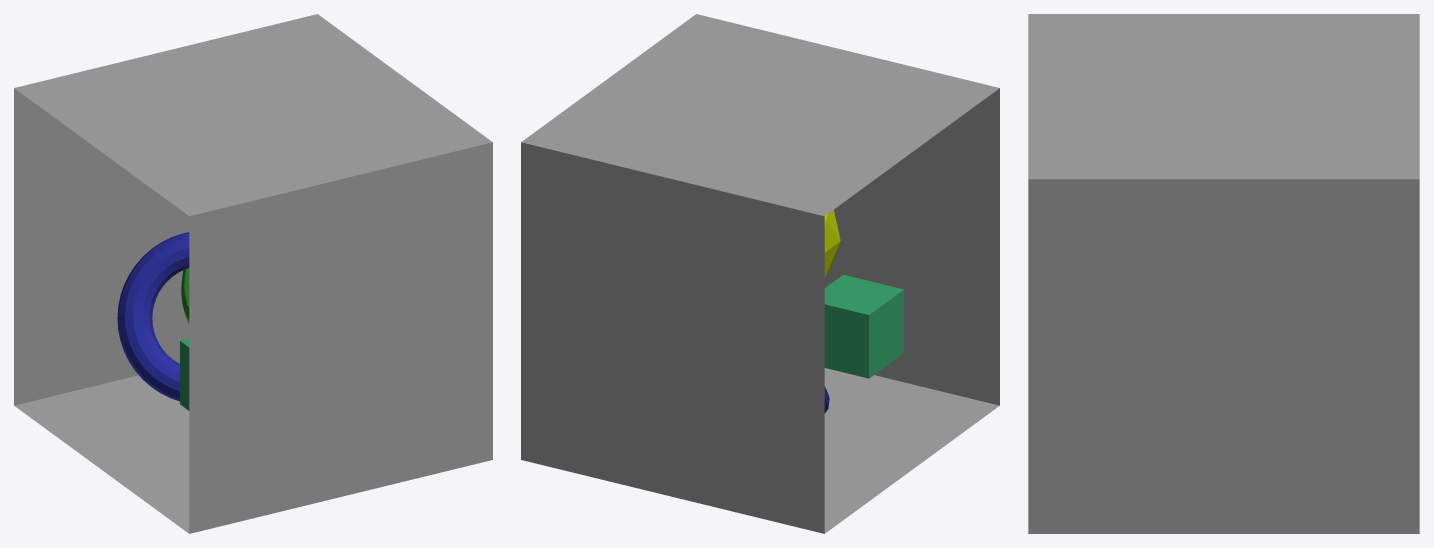
File: room.obj
The picture shows the model from 3 angles, left to right: view 1: azimuth 30°, elevation 25°; view 2: azimuth 150°, elevation 25°; view 3: azimuth 270°, elevation 25°; orthographic projection. The views are drawn at different scales.
Parts seen in each view (by area): view 1: Plane.002, Plane.001, Plane.003, Plane, Torus.001, Cube_Cube.002; view 2: Plane.003, Plane.001, Plane.002, Plane, Cube_Cube.002, Icosphere; view 3: Plane.004, Plane.001.
Part boxes in pixels (<box>): Plane.002: <box>189,142,492,533</box>; Plane.001: <box>14,14,492,216</box>; Plane.003: <box>14,88,189,405</box>; Plane: <box>14,375,189,533</box>; Torus.001: <box>117,232,189,401</box>; Cube_Cube.002: <box>180,338,189,410</box>; Plane.003: <box>521,142,824,533</box>; Plane.001: <box>521,14,999,216</box>; Plane.002: <box>824,88,999,405</box>; Plane: <box>824,368,999,533</box>; Cube_Cube.002: <box>824,274,903,378</box>; Icosphere: <box>824,210,840,278</box>; Plane.004: <box>1028,179,1419,533</box>; Plane.001: <box>1028,14,1419,179</box>.
Size of the model in its own units: 5 by 5 by 5.
